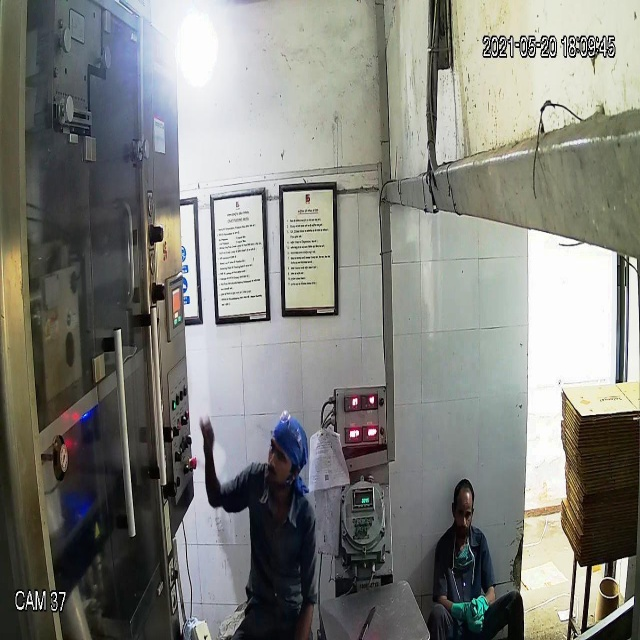Sin_gafas: (266, 436, 294, 473), (449, 498, 475, 524)
